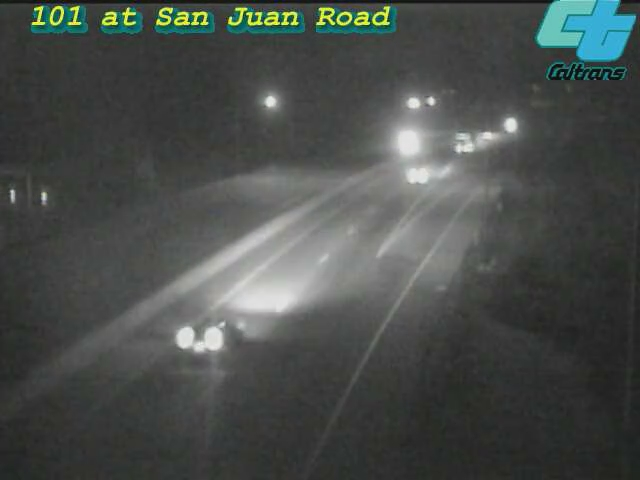vehicle: (158, 278, 268, 388), (380, 132, 460, 212), (380, 118, 430, 168), (485, 100, 535, 150), (464, 110, 514, 160), (449, 117, 499, 167)
